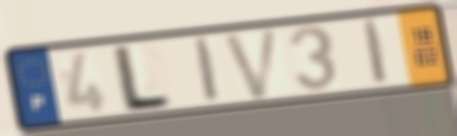3: (286, 22, 341, 94)
4: (63, 48, 110, 117)
I: (359, 16, 392, 87), (191, 34, 223, 105)
L: (112, 42, 174, 116)
V: (220, 25, 283, 102)
